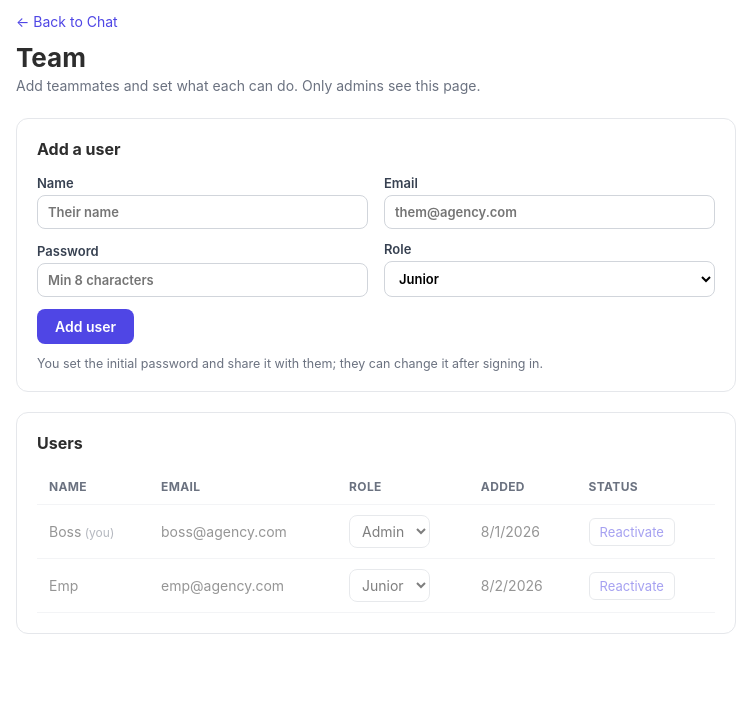
Test: Users admin screen › creates a user via the form and shows it
Expected: the text "boss@agency.com" is shown, [149,504,337,558]
Type "New" into the field labelled "Name" at (202, 212), box [37,195,368,229]
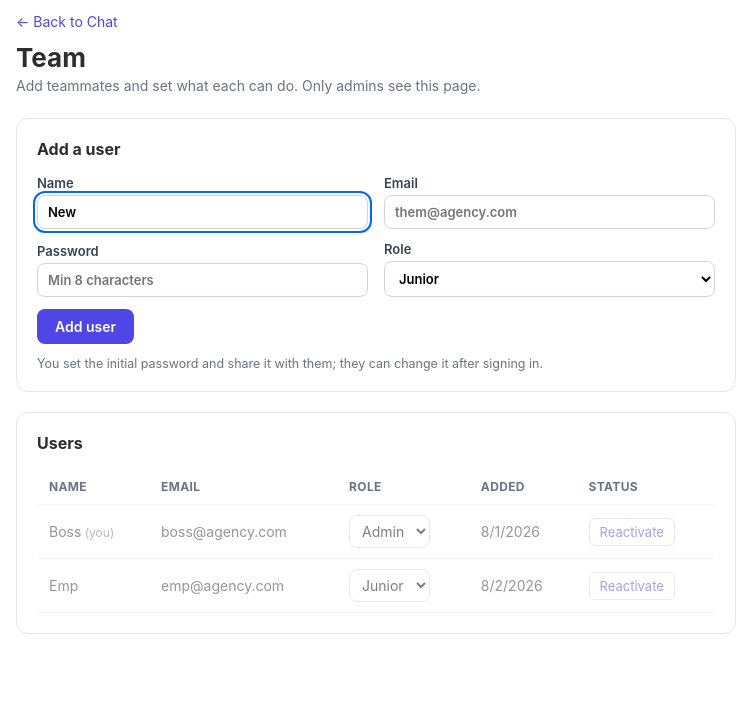
Type "new@agency.com" into the field labelled "Email" at (550, 212), box [384,195,715,229]
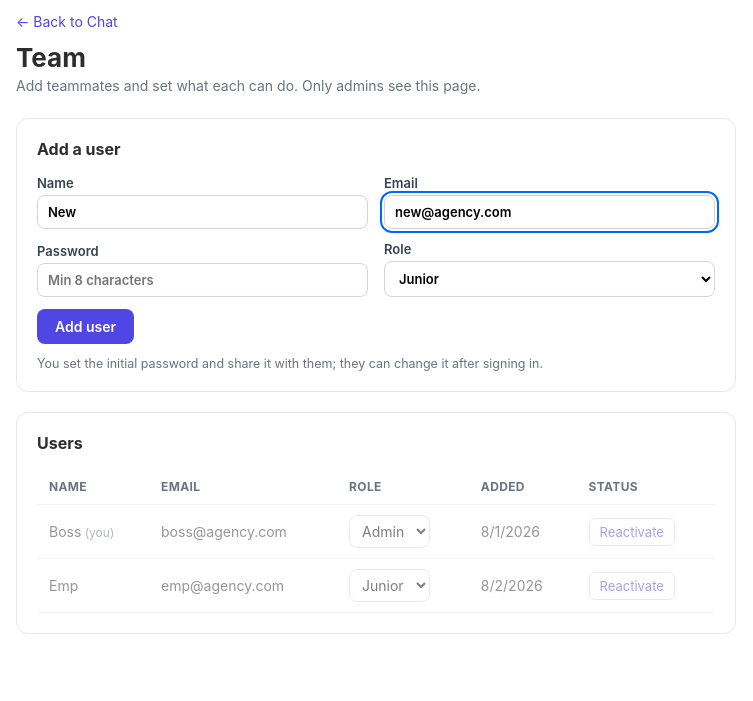
Type "password123" into the password field labelled "Password" at (202, 280), box [37,263,368,297]
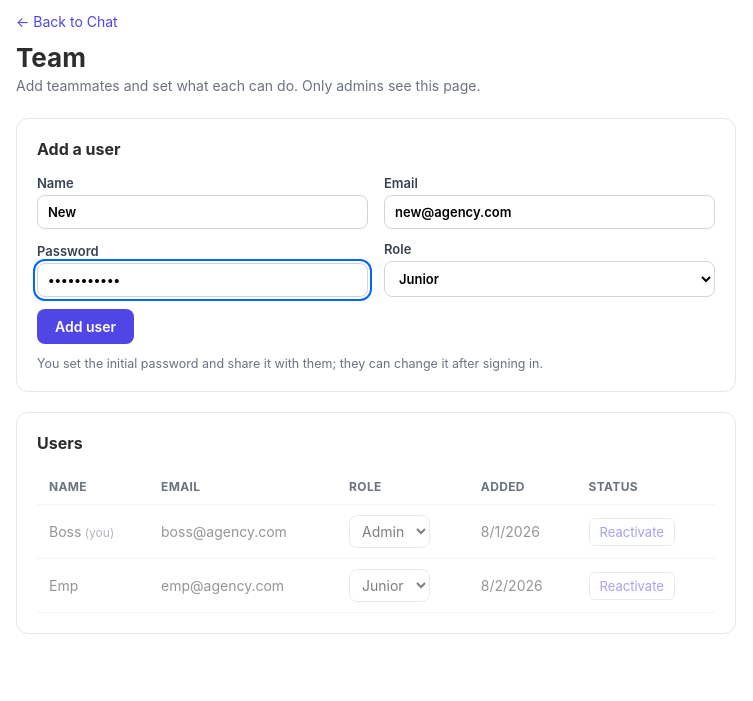
Click the button "Add user" at (86, 326), box [37,309,134,344]
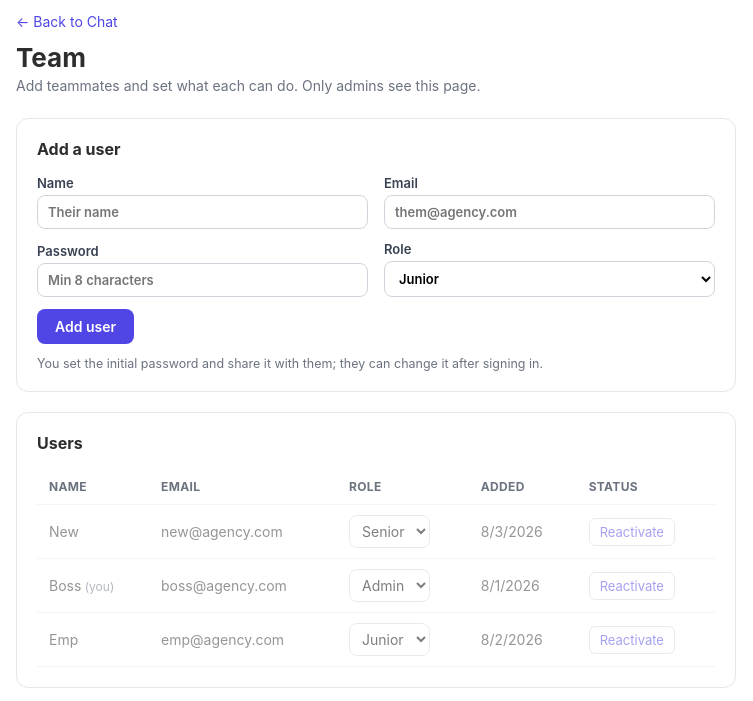
Result: the text "new@agency.com" is shown at [149,504,337,558]
